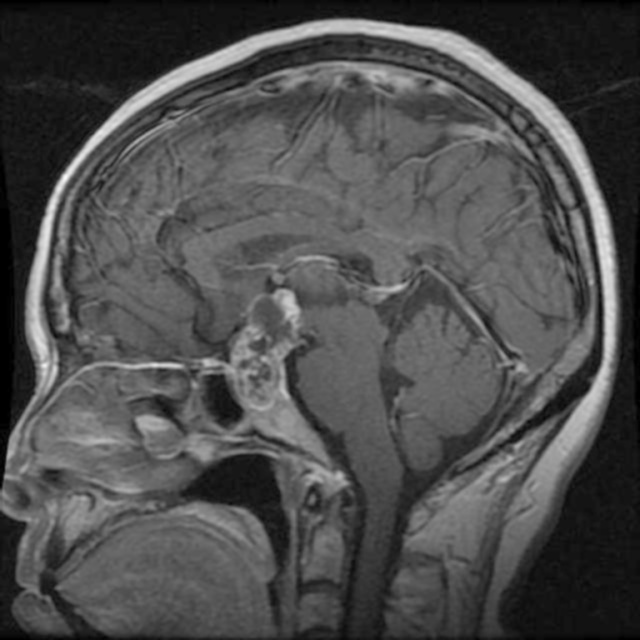no tumor: (222, 282, 298, 406)
